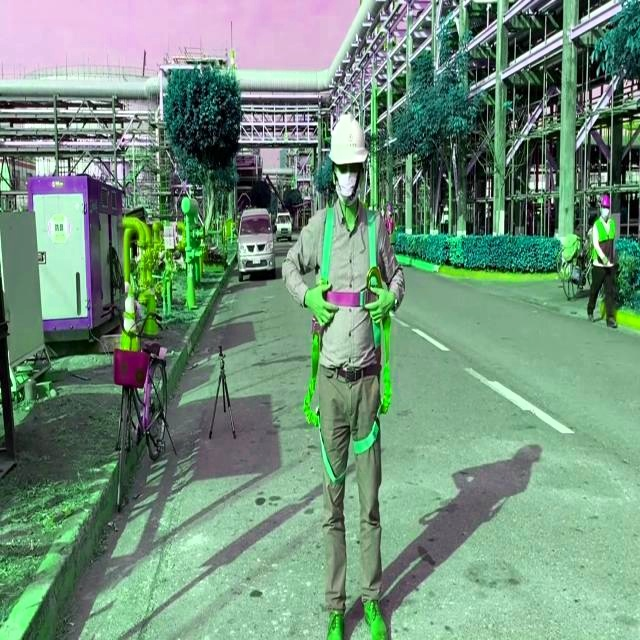safety belt: (312, 201, 405, 486)
